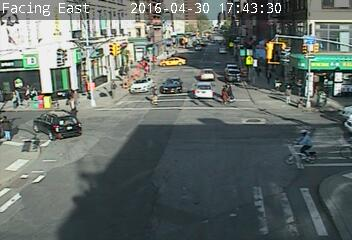neg: (252, 143, 290, 194), (87, 146, 121, 190), (140, 169, 170, 210), (35, 161, 62, 197), (6, 142, 33, 178), (277, 10, 303, 44), (104, 111, 128, 144), (221, 198, 242, 227), (216, 119, 237, 146), (144, 137, 161, 159), (193, 49, 209, 71), (156, 45, 170, 64), (100, 47, 114, 66), (119, 68, 133, 87), (238, 10, 252, 29), (169, 29, 183, 47), (263, 6, 274, 19)
pos: (55, 93, 81, 128), (215, 83, 233, 107), (222, 78, 240, 102), (146, 83, 164, 107), (282, 83, 299, 105), (19, 83, 33, 102), (8, 88, 21, 105), (28, 84, 39, 99), (254, 66, 265, 80), (266, 71, 276, 84)
